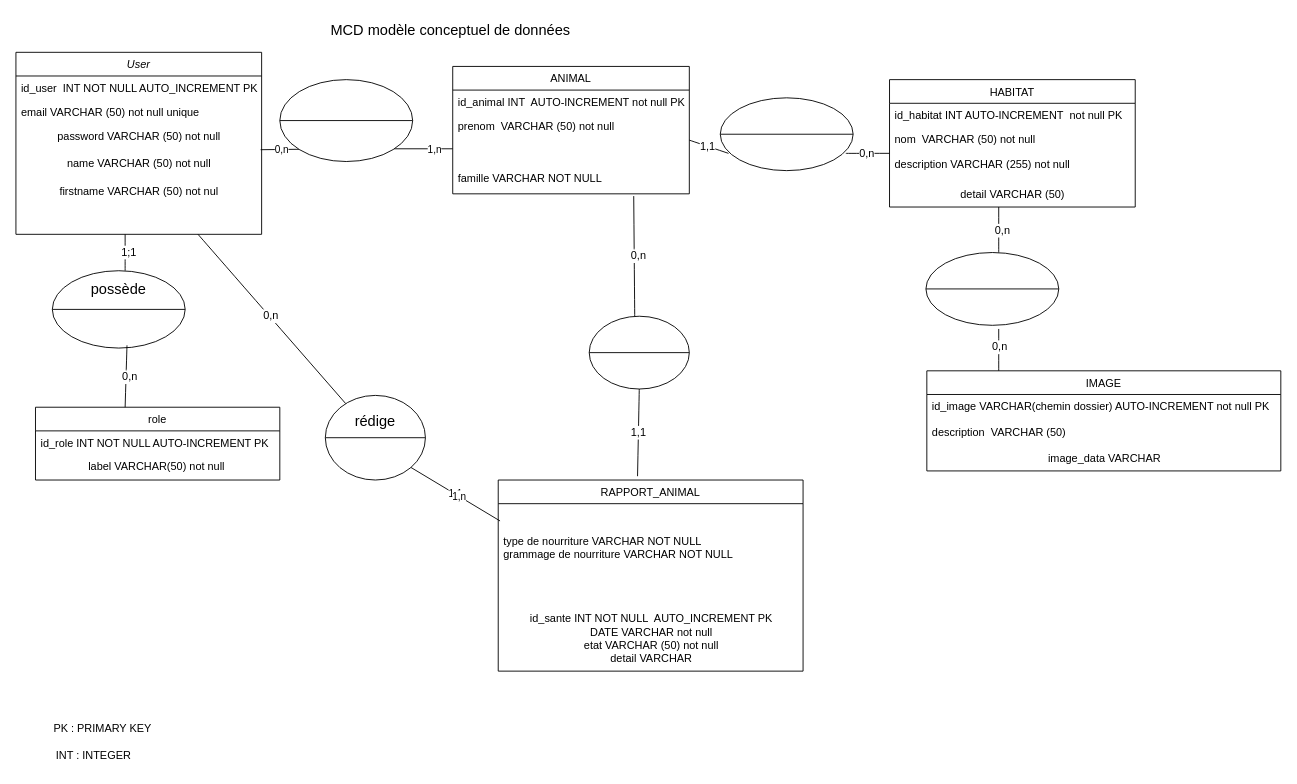
The diagram is 1297 pixels wide and 784 high, and some of its shapes have lost their labels. The centre of each missing label's shape, as x and y in pixels:
comporte: point (992, 288)
détient: point (786, 134)
nourrit: point (346, 120)
obtient: point (638, 352)
